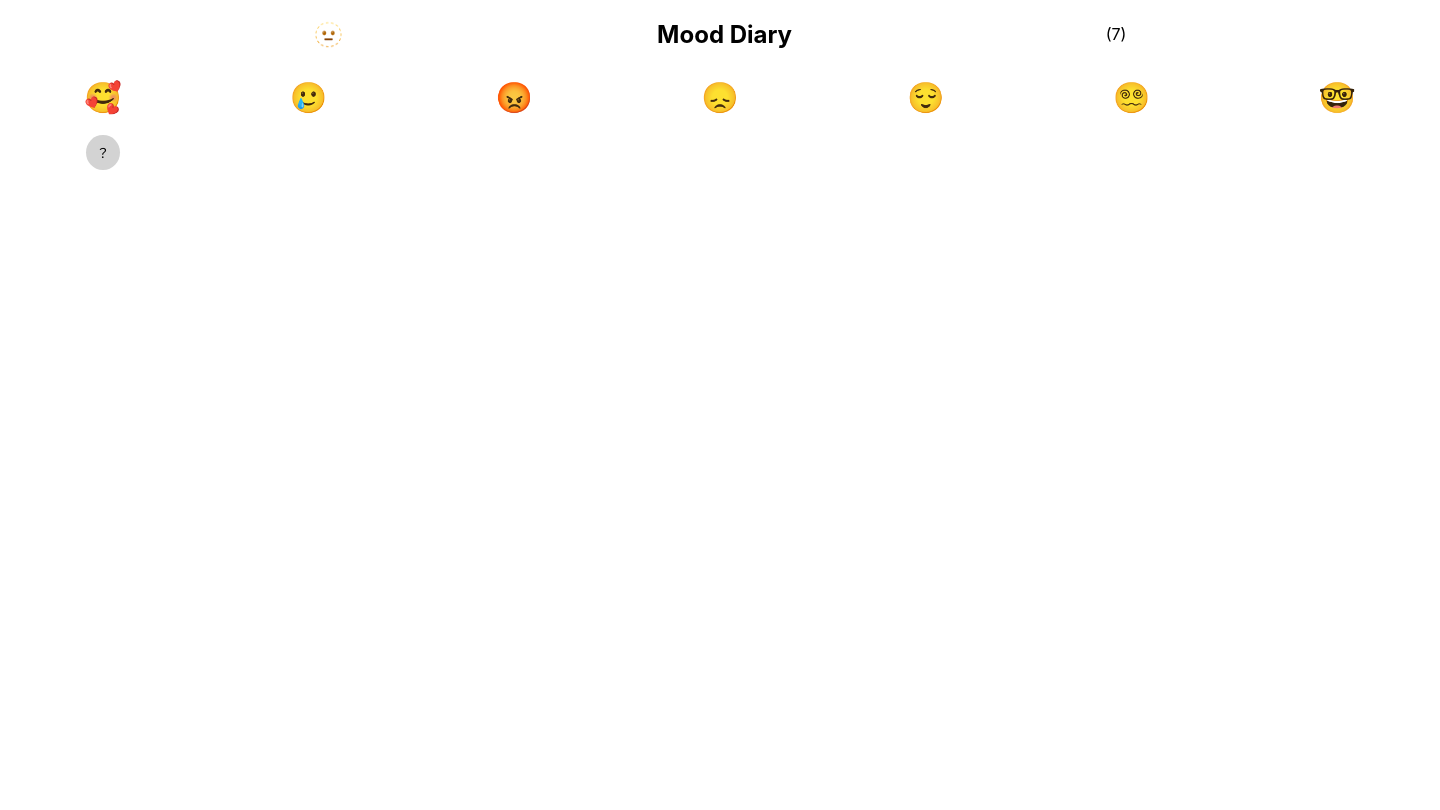
Test: if push Add button, moodData change to 8
The width and height of the screenshot is (1440, 810).
Click the button with test id "openMoodForm" at coordinates (103, 152), box [86,135,120,170]
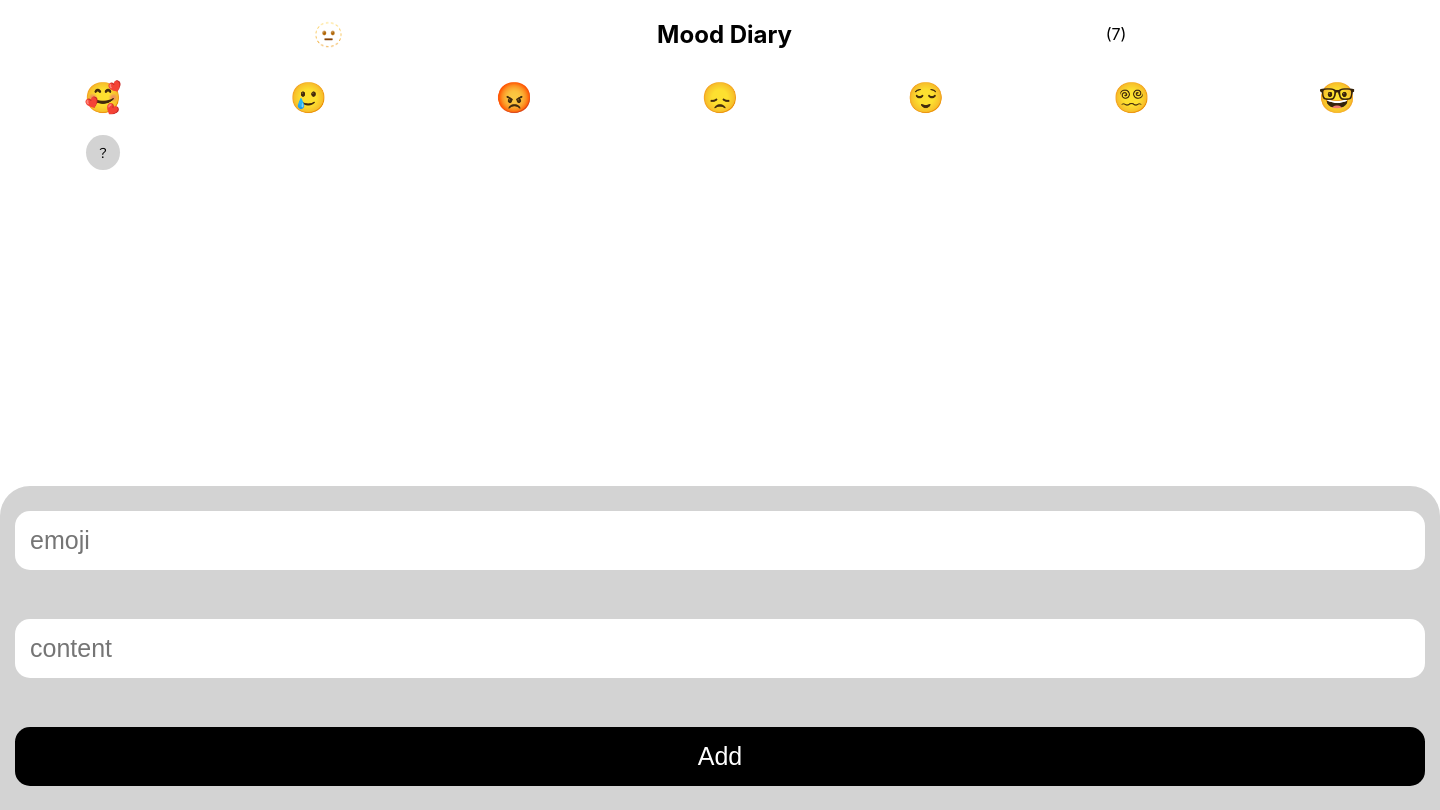
Click the button with test id "createMoodButton" at coordinates (720, 756), box [15,726,1425,786]
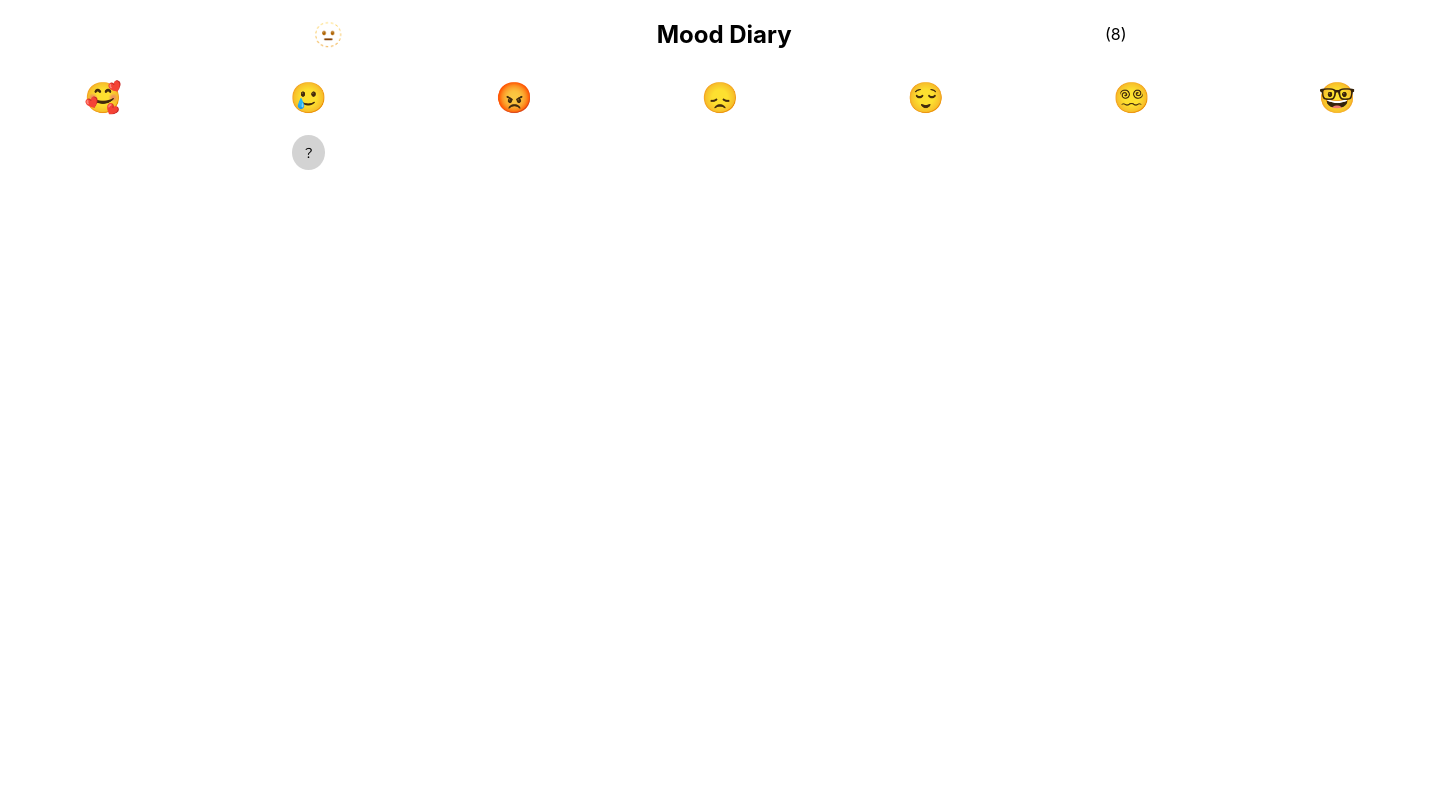
Expected: the text with test id "moodDataLength" shows "8", [1111,24,1121,44]
